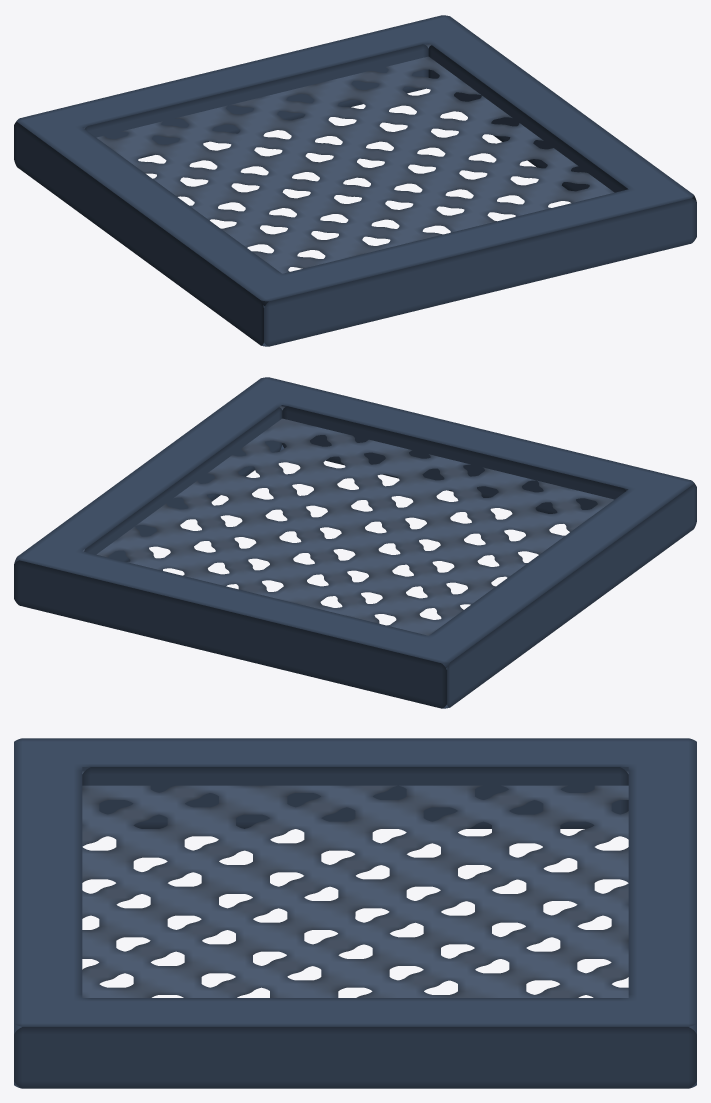
File: movingPlatform.fbx
3 views of the same model, one above another, from view 1: azimuth 30°, elevation 25°; view 2: azimuth 150°, elevation 25°; view 3: azimuth 270°, elevation 25° (orthographic). The views are drawn at different scales.
Parts seen in each view (by area): view 1: group, plane, plane_1; view 2: group, plane, plane_1; view 3: group, plane, plane_1.
Part boxes in pixels (x1,y1,x2,y2): group: (14,15,696,346); plane: (84,44,614,273); plane_1: (98,63,612,198); group: (14,377,696,708); plane: (83,406,614,635); plane_1: (84,419,416,631); group: (14,738,696,1088); plane: (82,771,628,997); plane_1: (130,786,628,997).
Bounding box in the file's own units: 62.5 × 6.25 × 62.5.
1 material, 1 textured.
